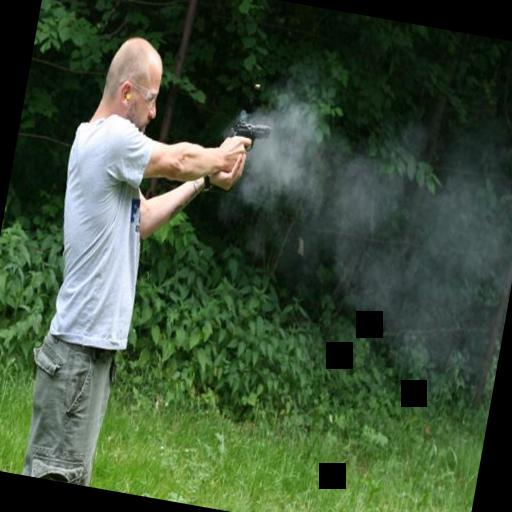Handgun: (220, 116, 272, 158)
